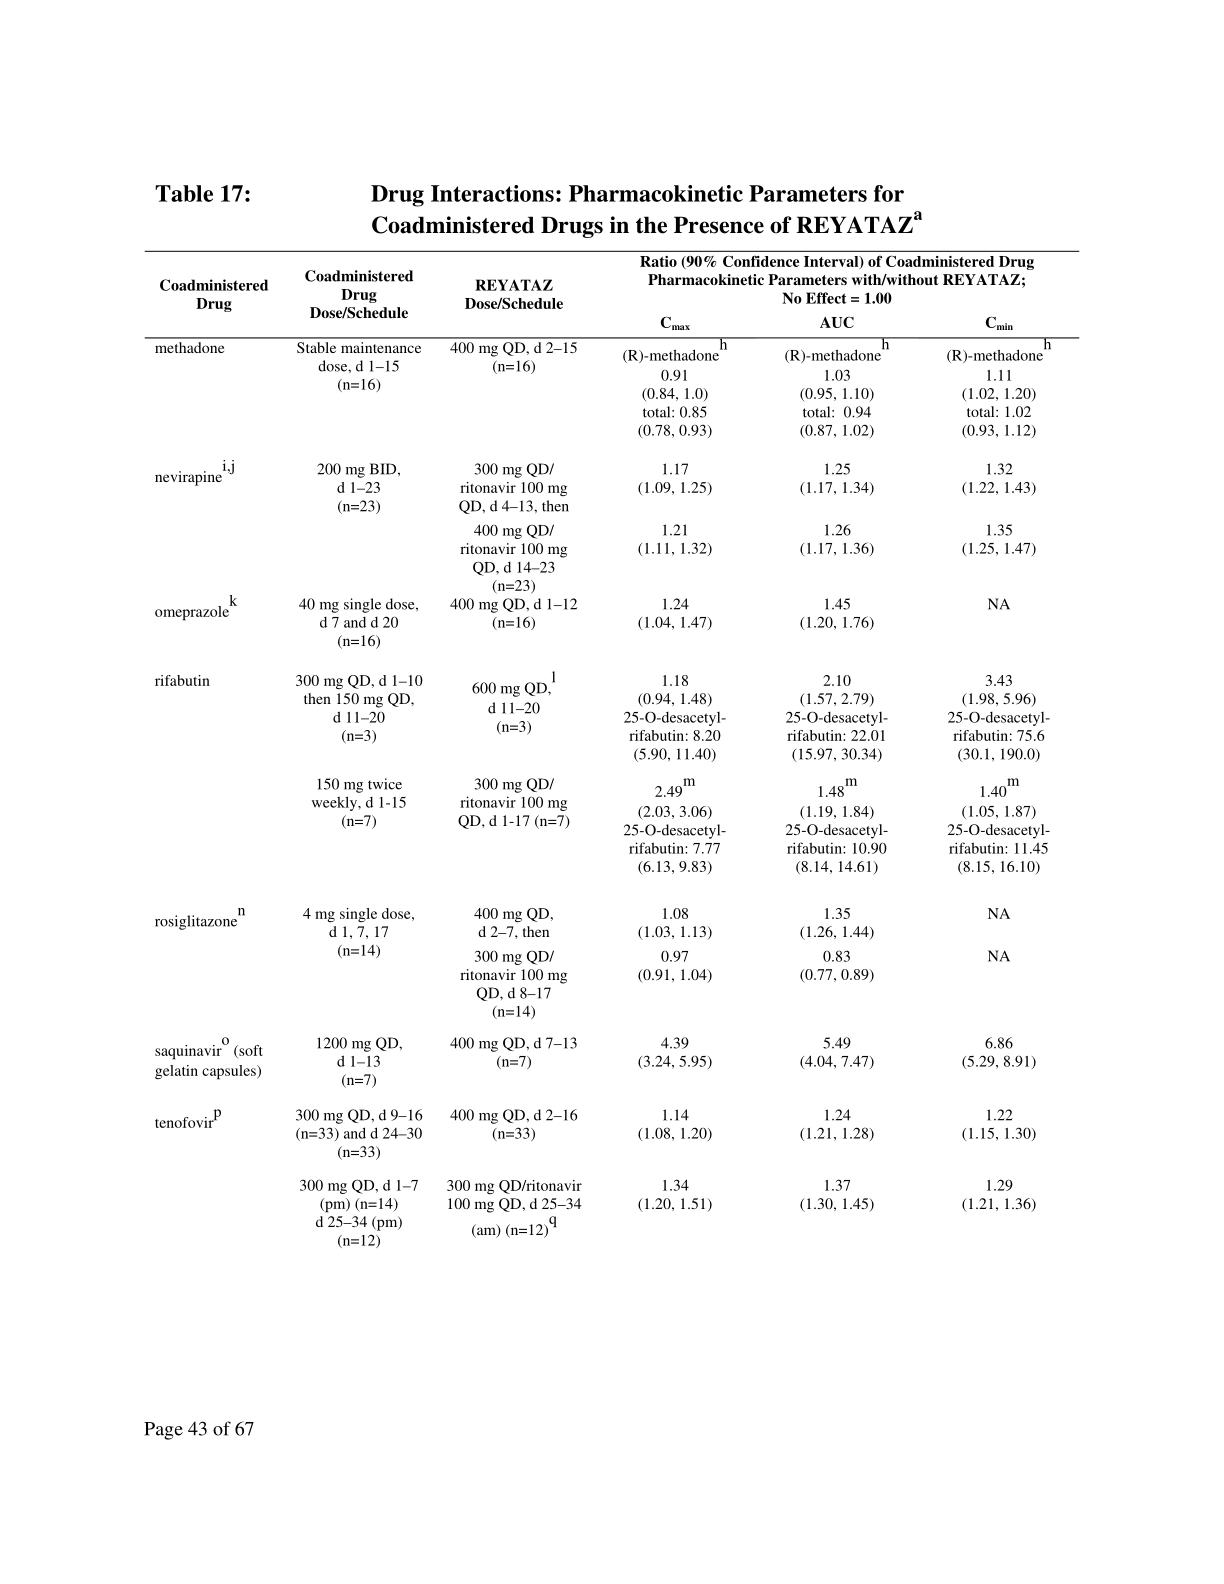partial_lined_merged_cells: (141, 249, 1083, 1254)
